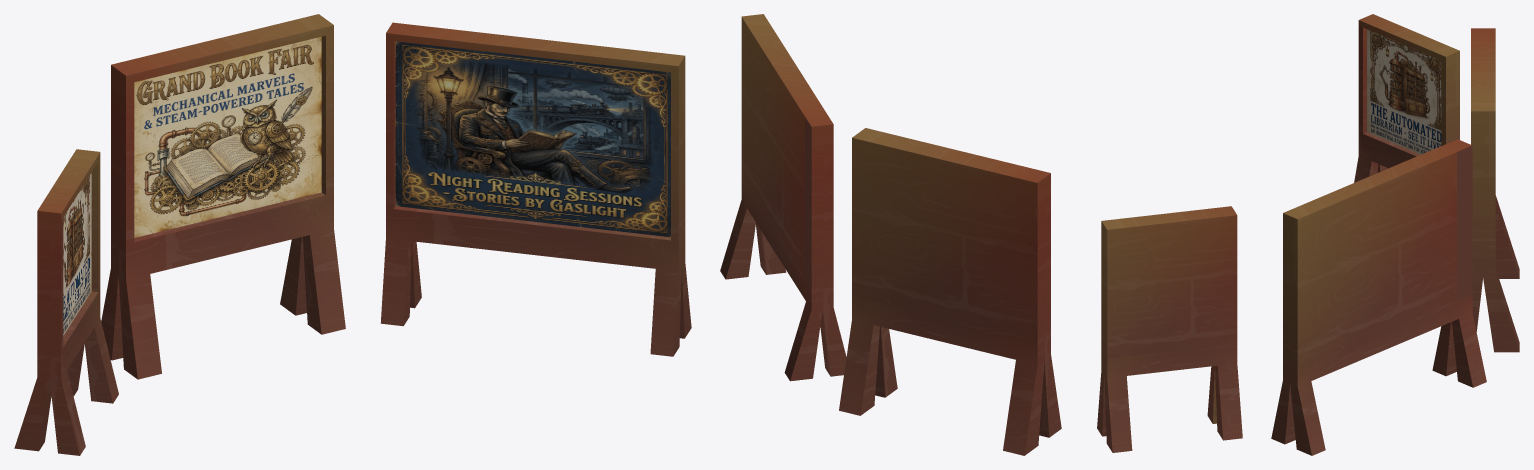
3 renders of one model, left to right at view 1: azimuth 30°, elevation 25°; view 2: azimuth 150°, elevation 25°; view 3: azimuth 270°, elevation 25°, orthographic. The views are drawn at different scales.
Parts seen in each view (by area): view 1: SignBig_Poster, SignNormal_Material.001, SignNormal_pOSTER2, SignBig_Material.001, SignSmall_Material.001, SignSmall_POSTER3; view 2: SignNormal_Material.001, SignSmall_Material.001, SignBig_Material.001; view 3: SignBig_Material.001, SignNormal_Material.001, SignSmall_POSTER3, SignSmall_Material.001.
Boxes of the visible parts, x1,y1,x2,y2 form: SignBig_Poster: (395,41,670,237); SignNormal_Material.001: (101,14,345,379); SignNormal_pOSTER2: (134,36,321,237); SignBig_Material.001: (380,22,691,356); SignSmall_Material.001: (14,149,118,455); SignSmall_POSTER3: (63,173,91,335); SignNormal_Material.001: (839,128,1061,455); SignSmall_Material.001: (1097,206,1242,452); SignBig_Material.001: (720,14,846,381); SignBig_Material.001: (1271,139,1486,455); SignNormal_Material.001: (1471,28,1519,352); SignSmall_POSTER3: (1367,29,1441,154); SignSmall_Material.001: (1354,14,1459,182).
Size of the model in its own units: 15.63 by 6.98 by 6.52.
